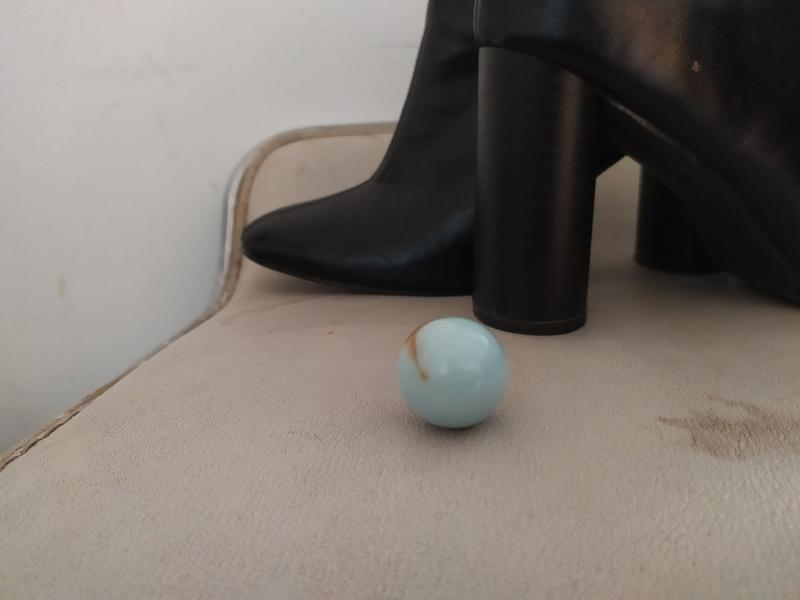Warning: (392, 314, 511, 431)
